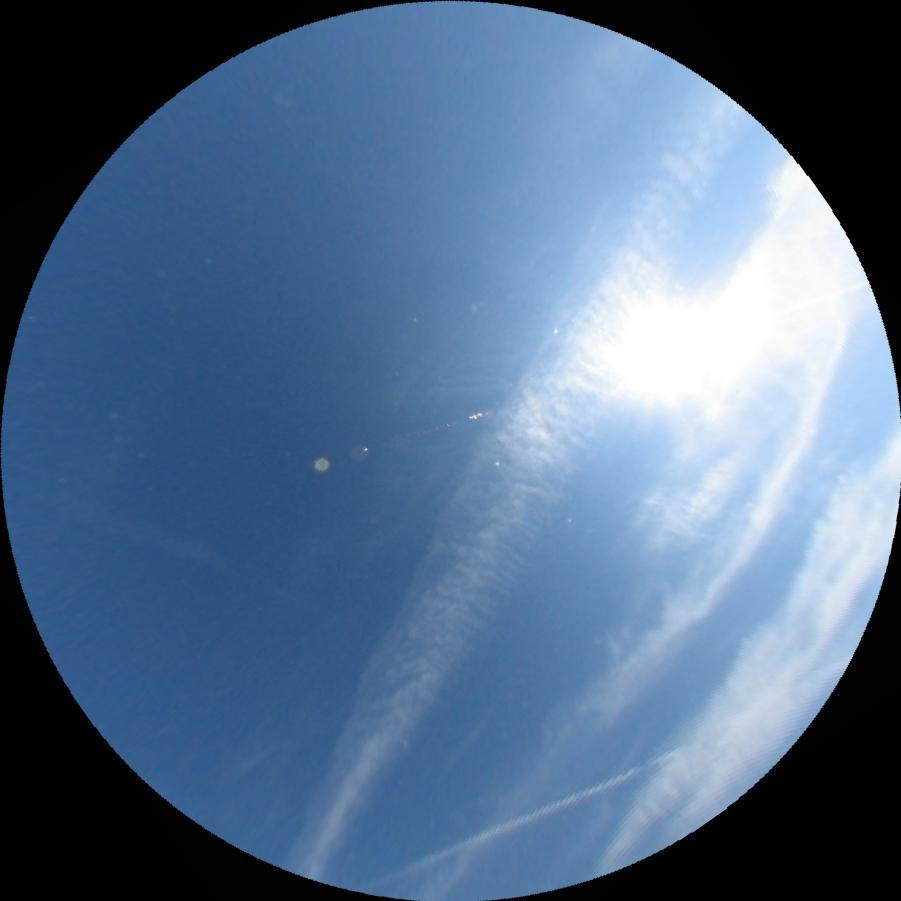contrail old: (356, 746, 680, 898)
contrail veryold: (266, 66, 760, 900)
sun: (605, 265, 773, 405)
